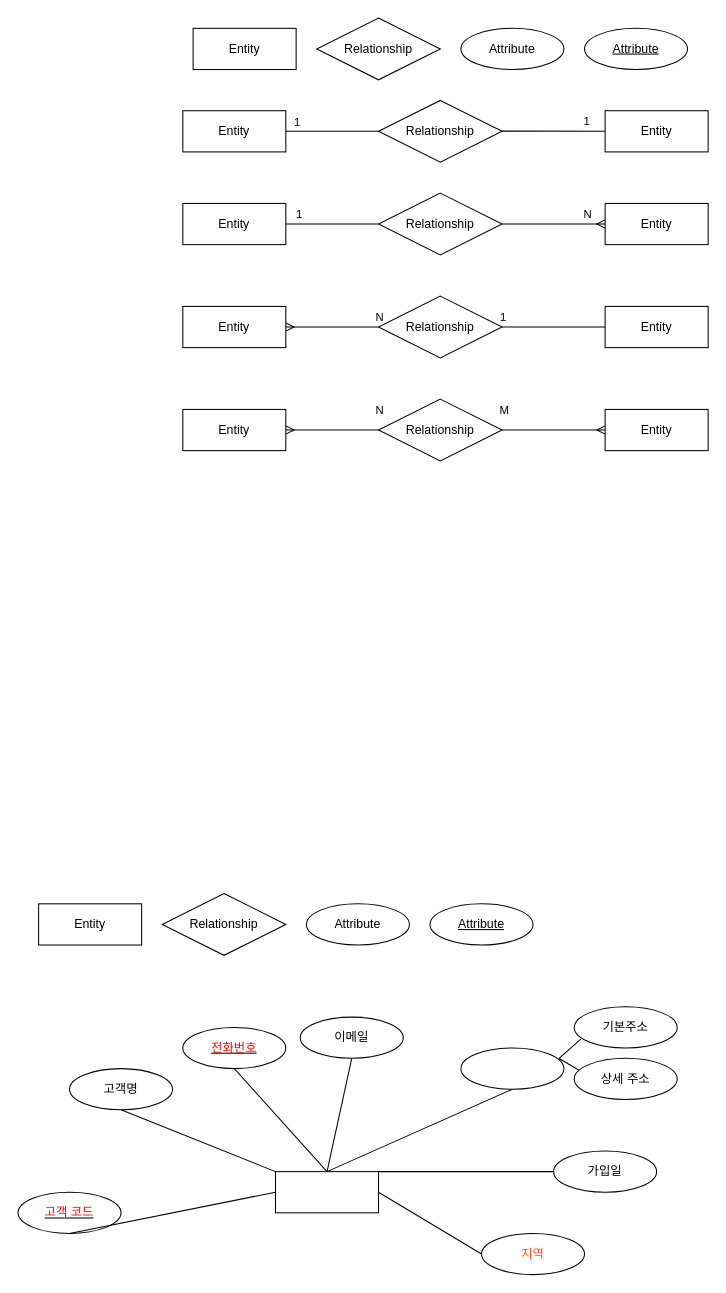
Some shapes in this 726 by 1293 pixel diagram are drawn without their labels. Here are the shapes that lost their labels. From the top down, the box of each, then its label:
(460, 1047, 564, 1089): 주소
(274, 1171, 379, 1213): 고객
